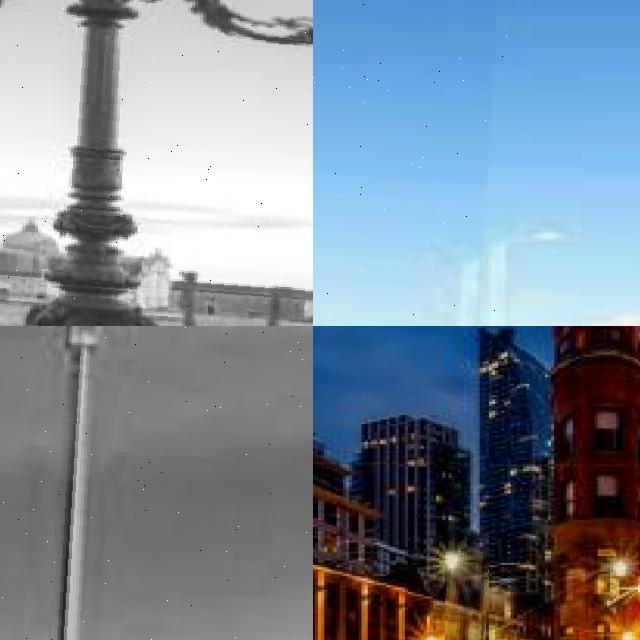street light: (0, 0, 313, 326), (0, 326, 313, 640), (313, 0, 510, 326), (445, 551, 488, 640), (603, 562, 627, 640)
